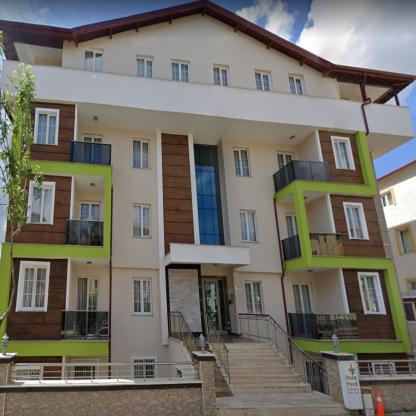door: (202, 279, 228, 333)
window: (195, 143, 224, 244), (18, 264, 47, 308), (359, 274, 385, 314), (29, 186, 53, 223), (346, 204, 368, 238), (134, 278, 152, 315), (36, 112, 56, 144), (293, 282, 313, 313), (133, 203, 151, 237), (245, 280, 263, 314), (334, 140, 354, 168), (83, 134, 102, 162), (240, 211, 257, 242), (132, 139, 150, 168), (233, 146, 250, 176), (396, 226, 413, 255), (84, 49, 104, 71), (171, 61, 190, 82), (79, 201, 100, 220), (88, 277, 98, 310), (134, 360, 154, 376), (136, 58, 152, 77), (255, 72, 271, 90), (214, 67, 229, 86), (277, 152, 294, 168), (289, 77, 304, 95), (74, 367, 96, 379), (403, 300, 415, 322), (286, 212, 296, 237), (380, 190, 394, 206), (406, 279, 416, 290)
